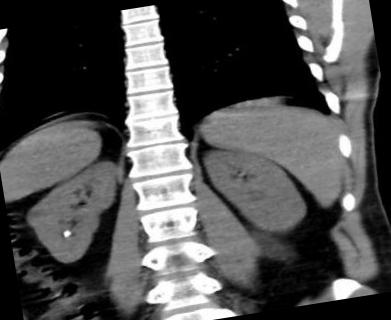Tas_Var: (58, 228, 72, 240)
